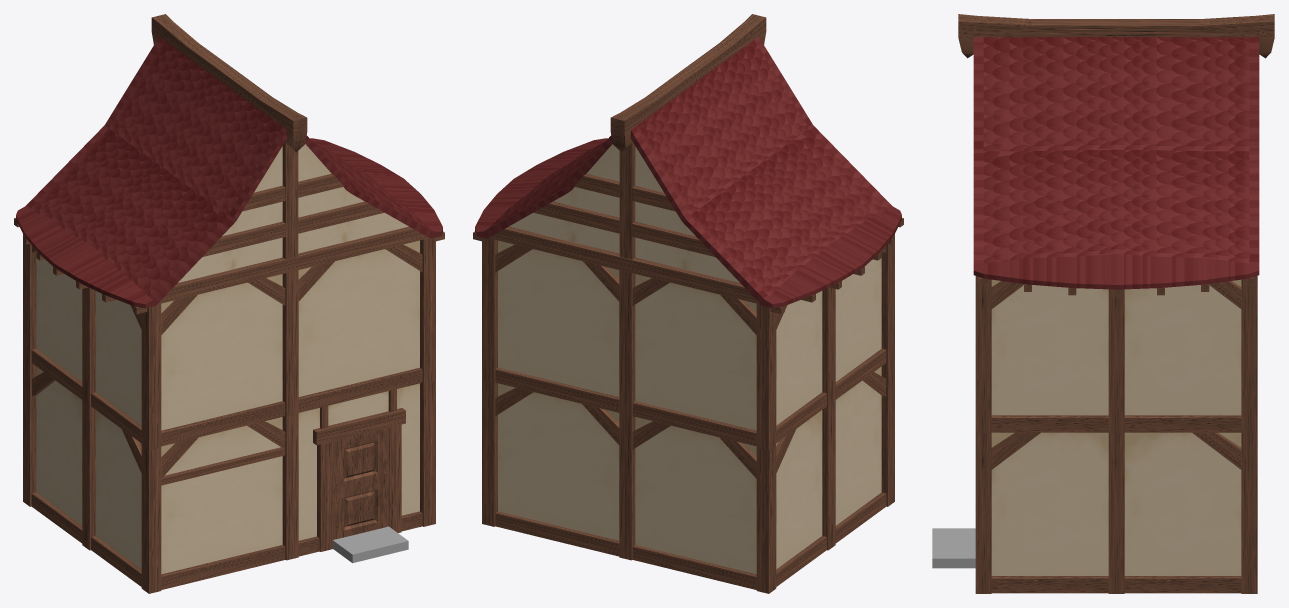
File: 2_Story_House1_MESH_1.fbx
The picture shows the model from 3 angles, left to right: view 1: azimuth 30°, elevation 25°; view 2: azimuth 150°, elevation 25°; view 3: azimuth 270°, elevation 25°; orthographic projection. The views are drawn at different scales.
Visible parts, largest first — view 1: pCube2506; view 2: pCube2506; view 3: pCube2506.
Part boxes in pixels (box(x1,y1,x2,y2)): pCube2506: box(14, 14, 444, 593); pCube2506: box(473, 14, 903, 593); pCube2506: box(932, 14, 1274, 593).
Bounding box in the file's own units: 1017 × 1240 × 773.
